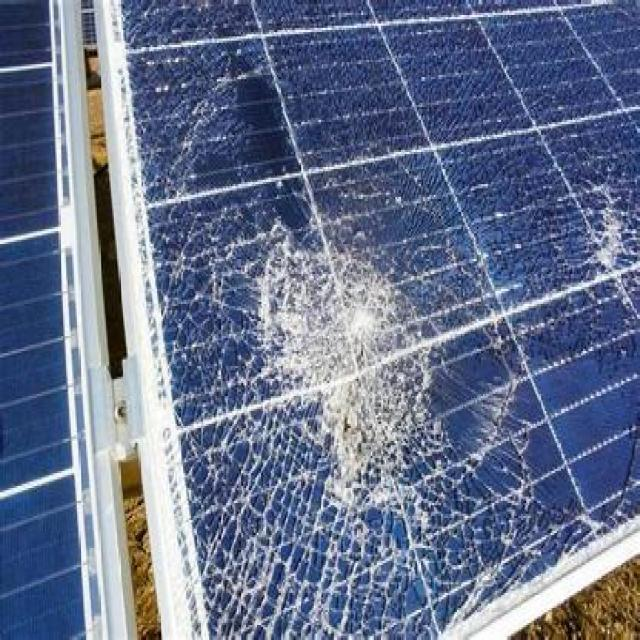cracked: (103, 2, 640, 634)
